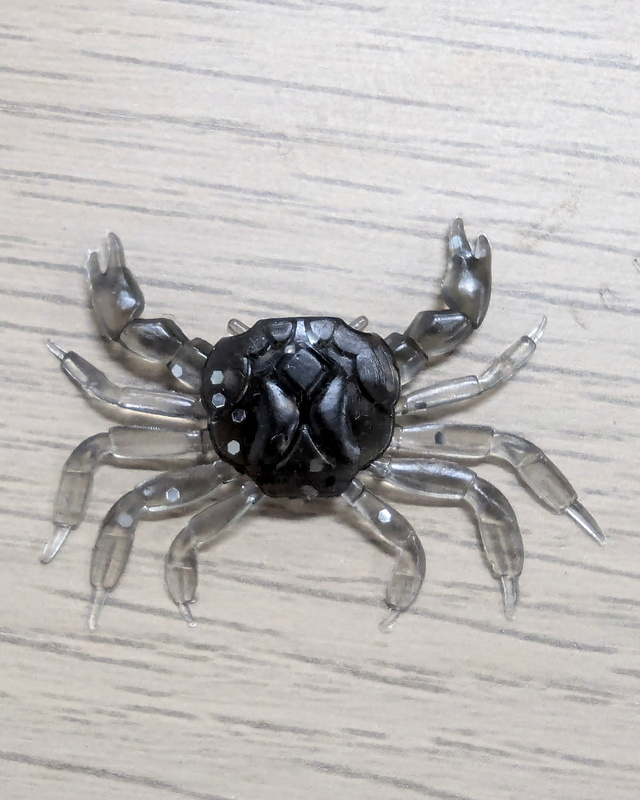crab1: (33, 213, 610, 627)
